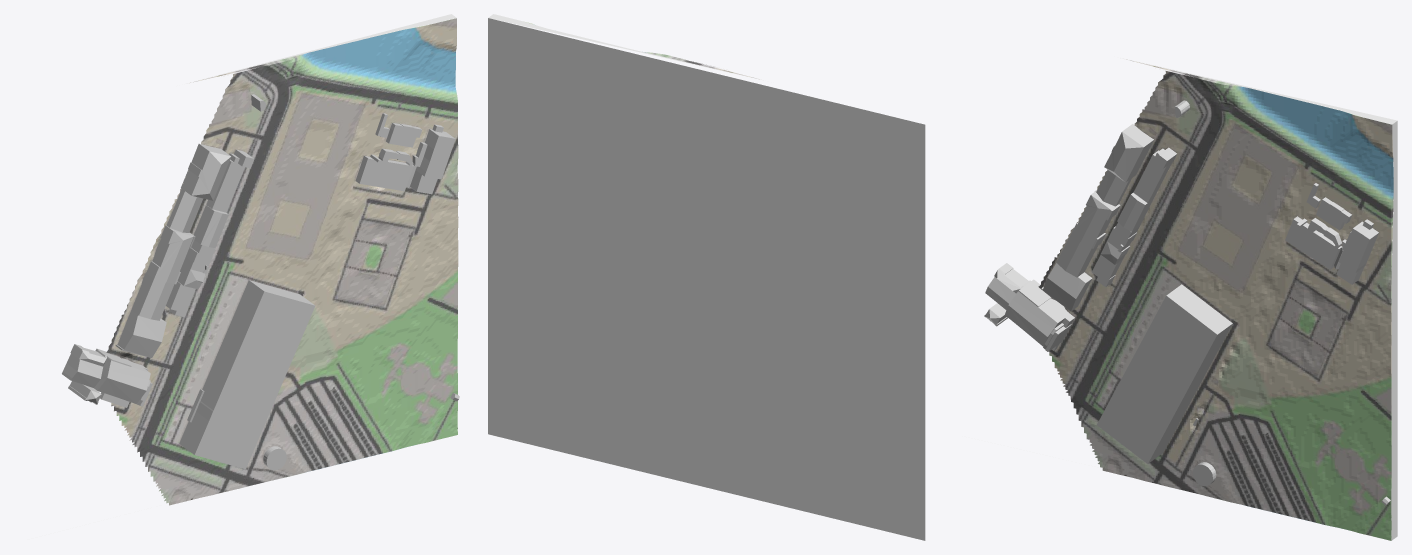
The model's file is 88fddc58-a7e0-4048-86b3-4475b9dacfc9.glb.
3 views of the same model, side by side, from view 1: azimuth 30°, elevation 25°; view 2: azimuth 150°, elevation 25°; view 3: azimuth 330°, elevation 25° (orthographic).
Visible parts, largest first — view 1: terrain, buildings; view 2: terrain; view 3: terrain, buildings.
Part boxes in pixels (x1,y1,x2,y2): terrain: (106, 14, 458, 505); buildings: (62, 94, 459, 470); terrain: (488, 14, 925, 540); terrain: (1038, 58, 1397, 540); buildings: (984, 100, 1390, 505).
Bounding box in the file's own units: 330 × 301 × 34.22.
3 materials, 1 textured.
